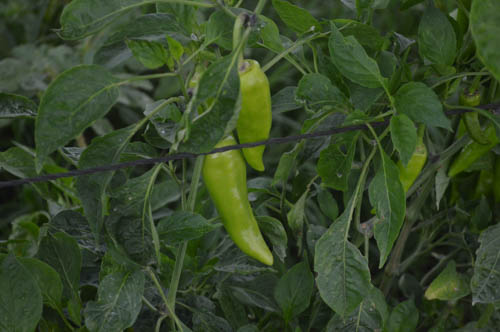ChiliPepper: (207, 145, 270, 265), (235, 67, 272, 172), (451, 128, 493, 176), (392, 149, 425, 189), (463, 94, 485, 143)
